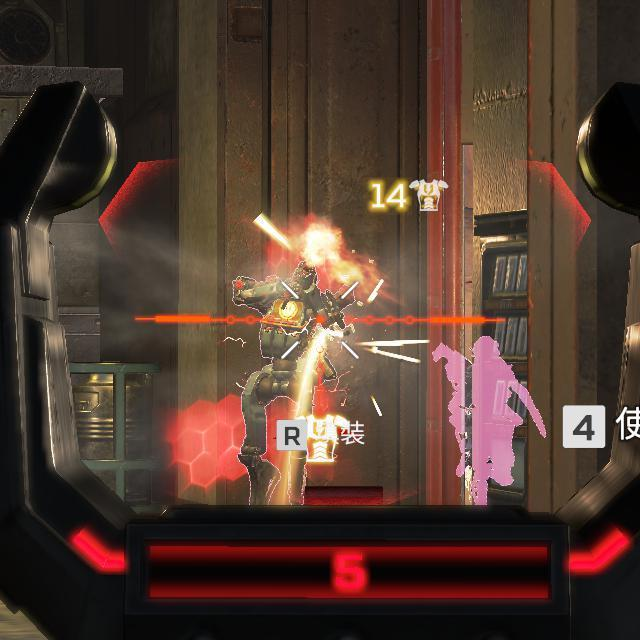avatar: (231, 255, 346, 508)
